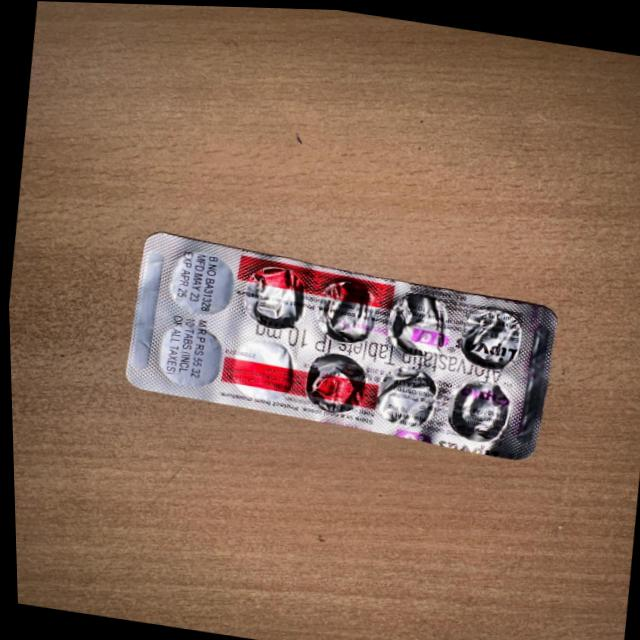medicine: (105, 217, 568, 465)
